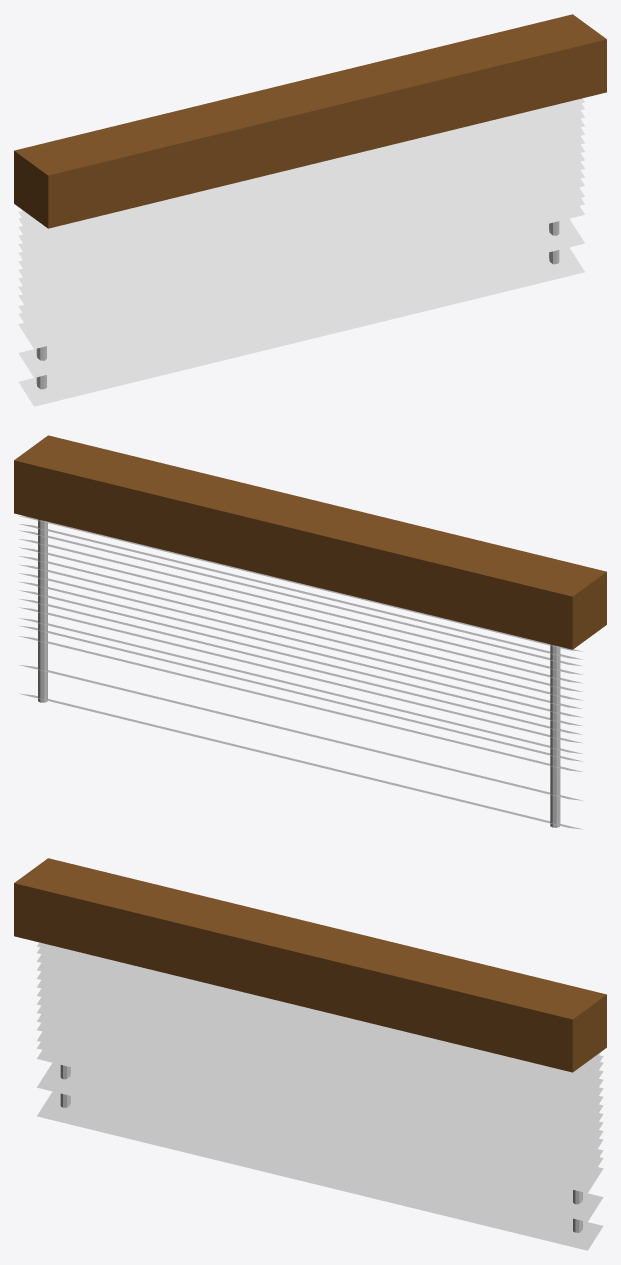
File: decor_blinds1.fbx
3 renders of one model, top to bottom at view 1: azimuth 30°, elevation 25°; view 2: azimuth 150°, elevation 25°; view 3: azimuth 330°, elevation 25°, orthographic.
Parts seen in each view (by area): view 1: decor_blinds1; view 2: decor_blinds1; view 3: decor_blinds1.
Part boxes in pixels (box(x1,y1,x2,y2)): decor_blinds1: box(14, 14, 606, 406); decor_blinds1: box(14, 435, 606, 829); decor_blinds1: box(14, 858, 606, 1250).
Size of the model in its own units: 89.15 by 37.44 by 9.45.
